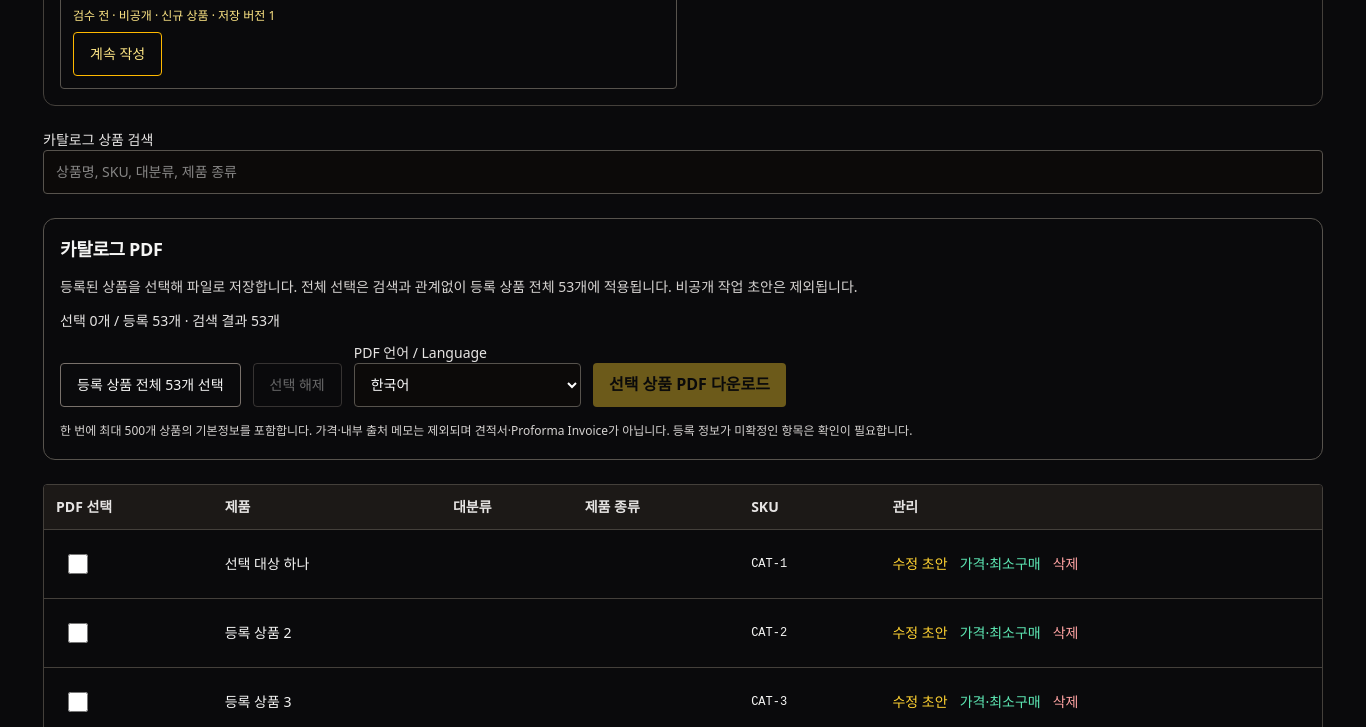
Test case: refresh removes deleted products from selection while preserving every remaining selection
(page scrolled)
Click the button "등록 상품 전체 53개 선택" at (150, 385), box left=60, top=363, right=240, bottom=407
(page scrolled)
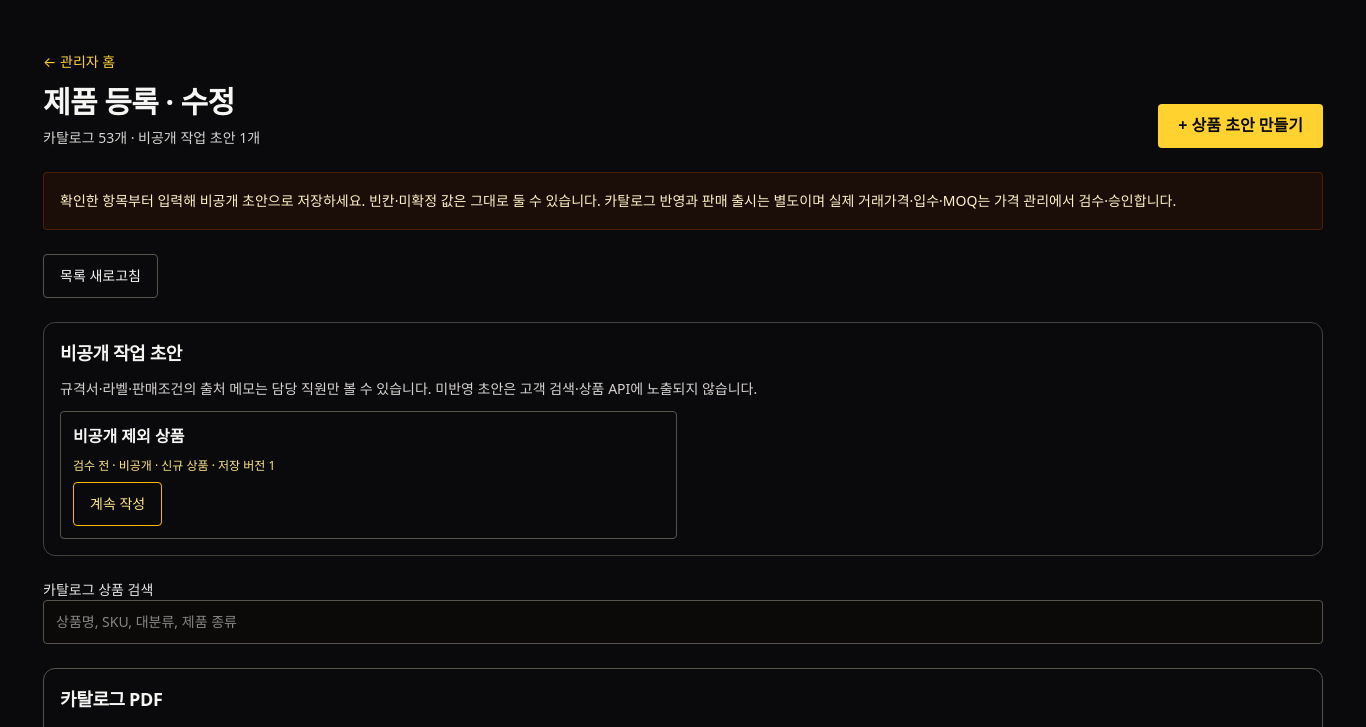
Click the button "목록 새로고침" at (100, 276), box left=43, top=254, right=158, bottom=298
(page scrolled)
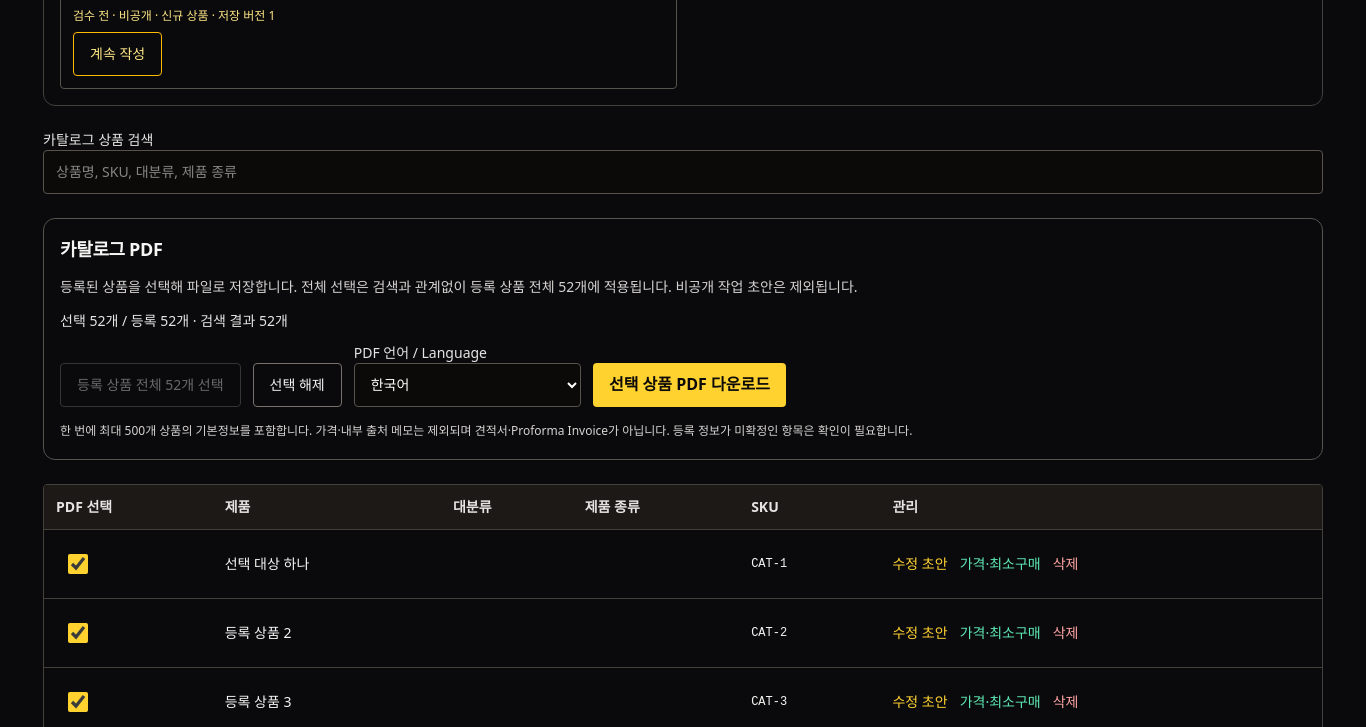
Expected: the element "카탈로그 PDF" shows "선택 52개 / 등록 52개", left=43, top=218, right=1323, bottom=460
Expected: the number of checkboxes is 52
Click the button "선택 상품 PDF 다운로드" at (689, 385), box left=593, top=363, right=786, bottom=407
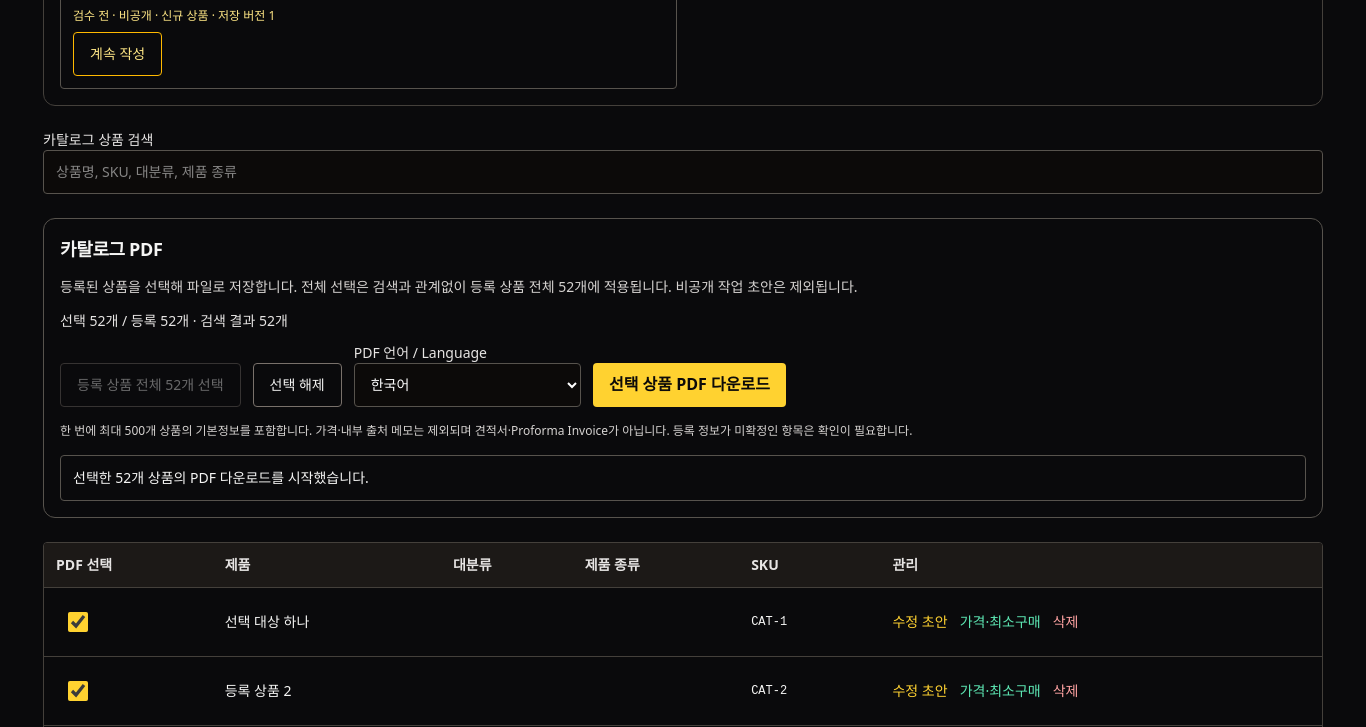
Expected: the text "선택한 52개 상품의 PDF 다운로드를 시작했습니다." is shown, left=60, top=455, right=1306, bottom=501
